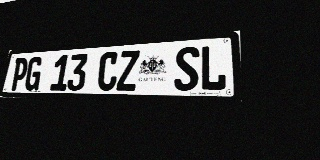1: (50, 55, 71, 91)
3: (66, 54, 88, 91)
C: (96, 51, 119, 91)
G: (23, 57, 44, 91)
L: (199, 44, 226, 91)
P: (10, 58, 29, 91)
S: (174, 46, 199, 91)
Z: (116, 50, 140, 91)
